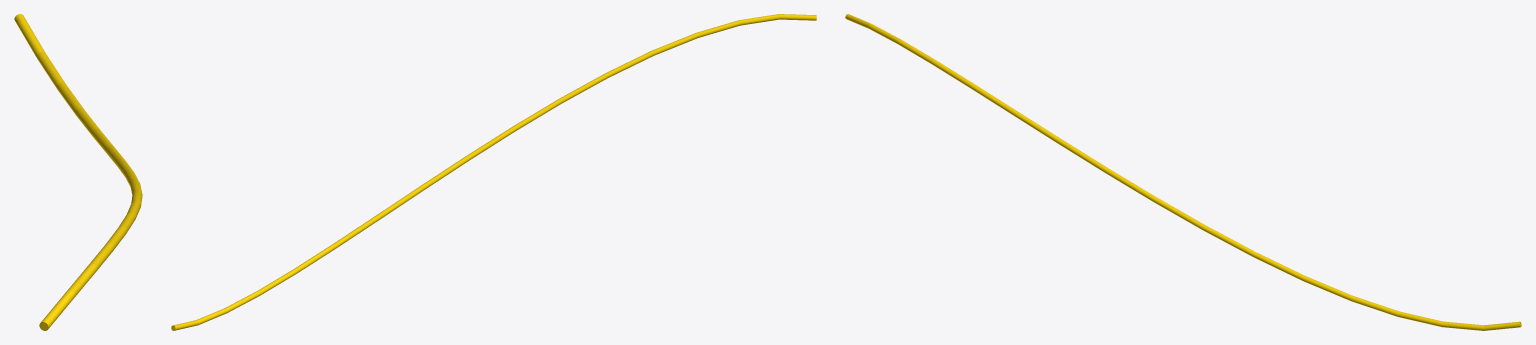
File: Event_421115418_track_107.fbx
The picture shows the model from 3 angles, left to right: view 1: azimuth 90°, elevation 25°; view 2: azimuth 210°, elevation 25°; view 3: azimuth 330°, elevation 25°; orthographic projection. The views are drawn at different scales.
Parts seen in each view (by area): view 1: Model; view 2: Model; view 3: Model.
Boxes of the visible parts, left/top/right/bottom form: Model: left=14, top=14, right=142, bottom=330; Model: left=171, top=14, right=816, bottom=330; Model: left=845, top=14, right=1521, bottom=330.
Bounding box in the file's own units: 5.37 × 1.27 × 0.5057.
